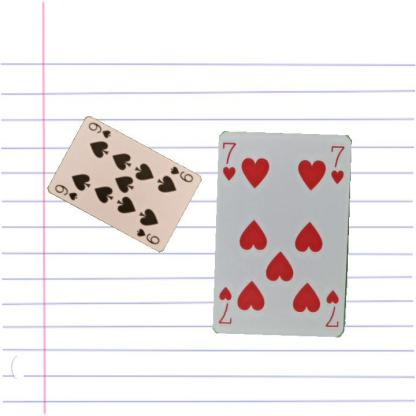7h: (220, 140, 238, 182), (323, 287, 340, 329)
9s: (52, 182, 79, 202), (168, 164, 194, 184)
